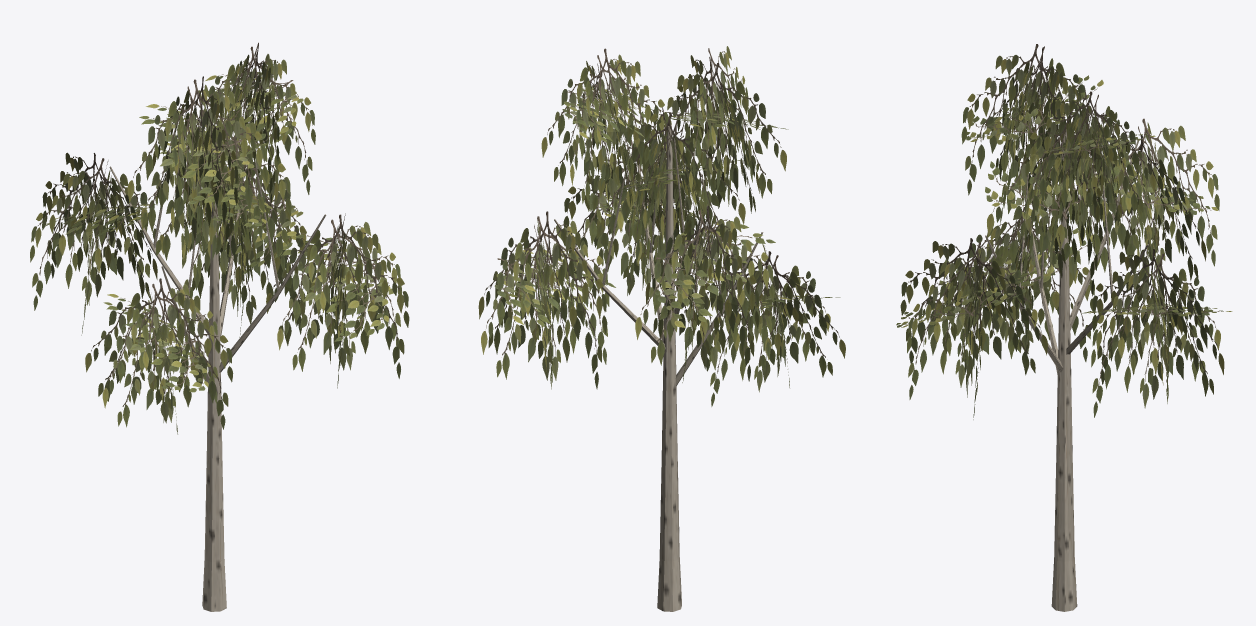
The model's file is tree_02.glb.
3 views of the same model, side by side, from view 1: azimuth 30°, elevation 25°; view 2: azimuth 150°, elevation 25°; view 3: azimuth 270°, elevation 25° (orthographic).
Visible parts, largest first — view 1: outdoor_tree_02; view 2: outdoor_tree_02; view 3: outdoor_tree_02.
Part boxes in pixels (box(x1,y1,x2,y2)): outdoor_tree_02: box(30, 42, 409, 611); outdoor_tree_02: box(478, 46, 845, 611); outdoor_tree_02: box(896, 44, 1232, 611).
Size of the model in its own units: 3.6 by 6.2 by 3.6.
Materials: 3 (3 with a texture image).
